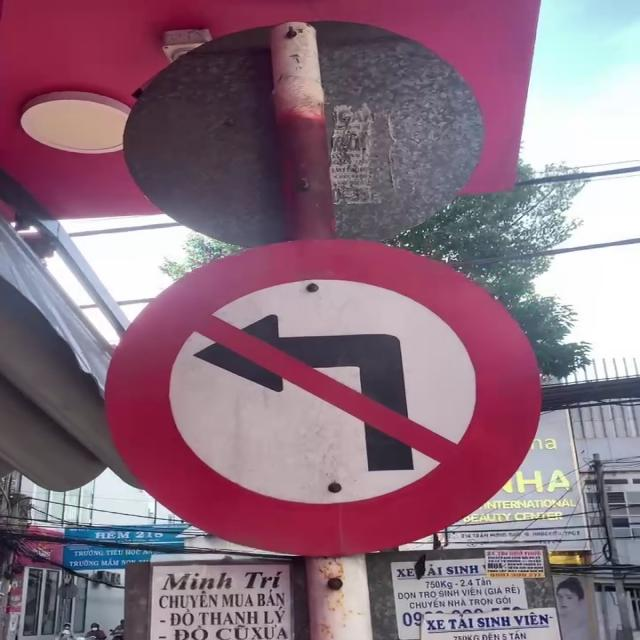Cam_Re_Trai: (101, 237, 543, 556)
